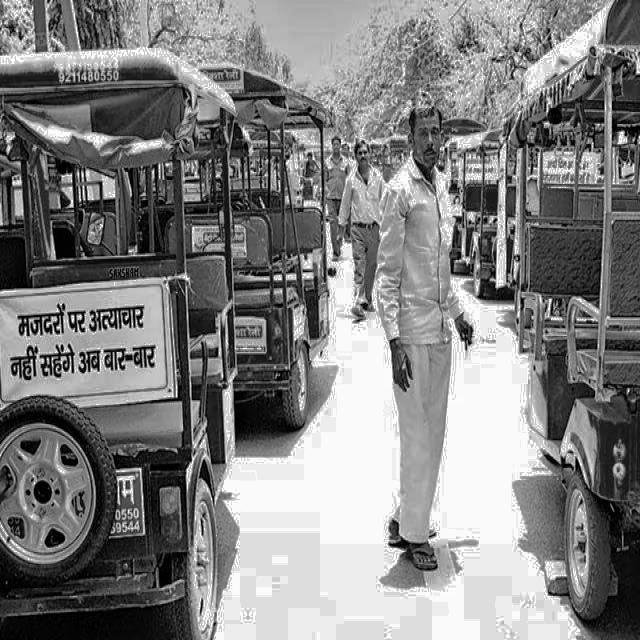Toto: (0, 47, 234, 640), (501, 39, 640, 640), (202, 59, 334, 437)
